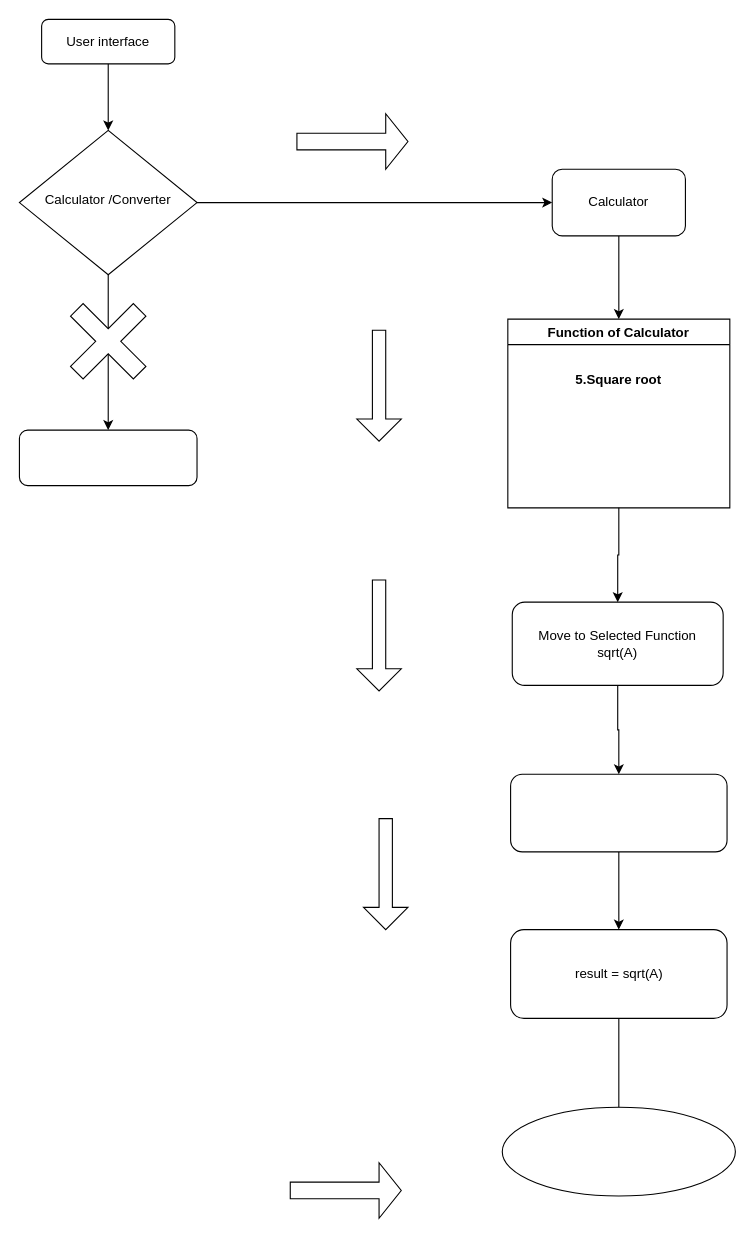
The diagram is 755 pixels wide and 1238 high, and some of its shapes have lost their labels. Each missing label, with the box of its shape:
Converter: (18, 429, 197, 486)
Enter the values for A and B: (509, 773, 727, 852)
Result for the user: (501, 1106, 735, 1196)
